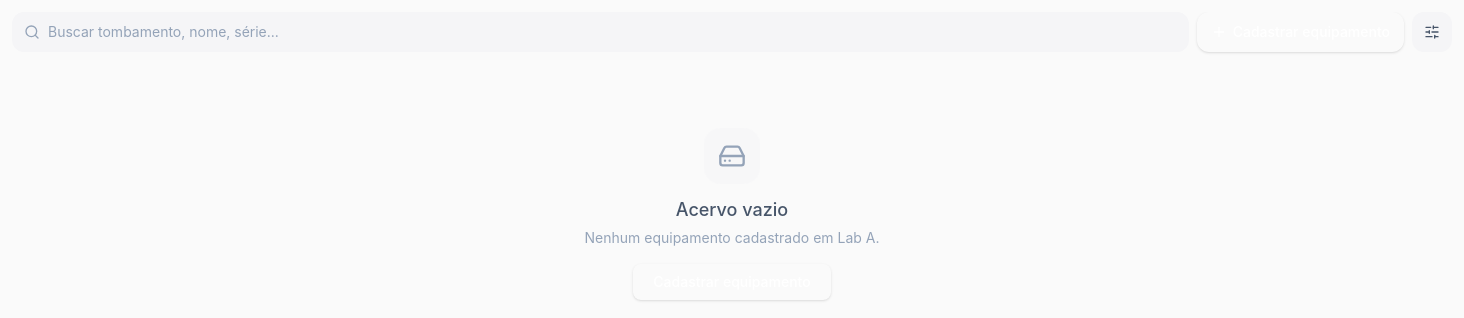
Test: StockEquipamentosListPage › busca filtra a lista
Type "notebook" into the field with placeholder "Buscar tombamento, nome, série..." at (600, 32), box left=12, top=12, right=1189, bottom=52
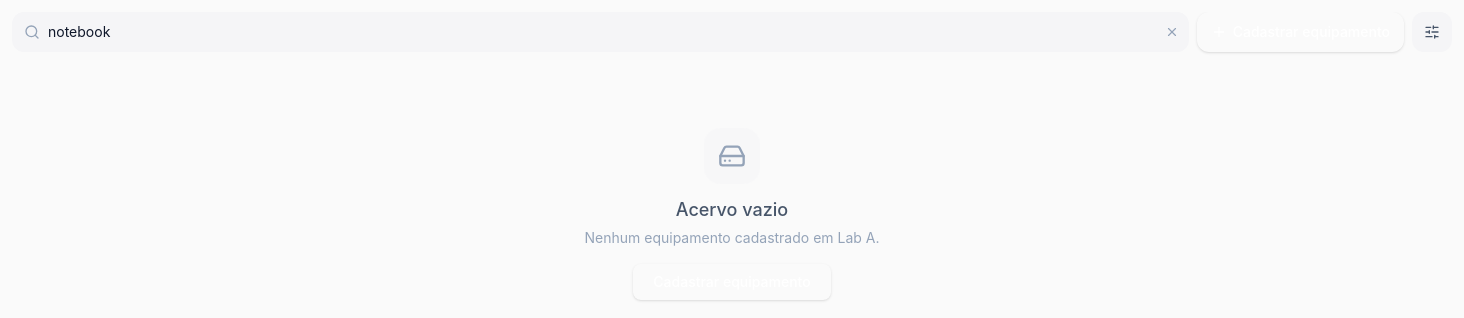
Clear search
Click the button named "Limpar busca" at (1172, 32), box left=1165, top=25, right=1179, bottom=39
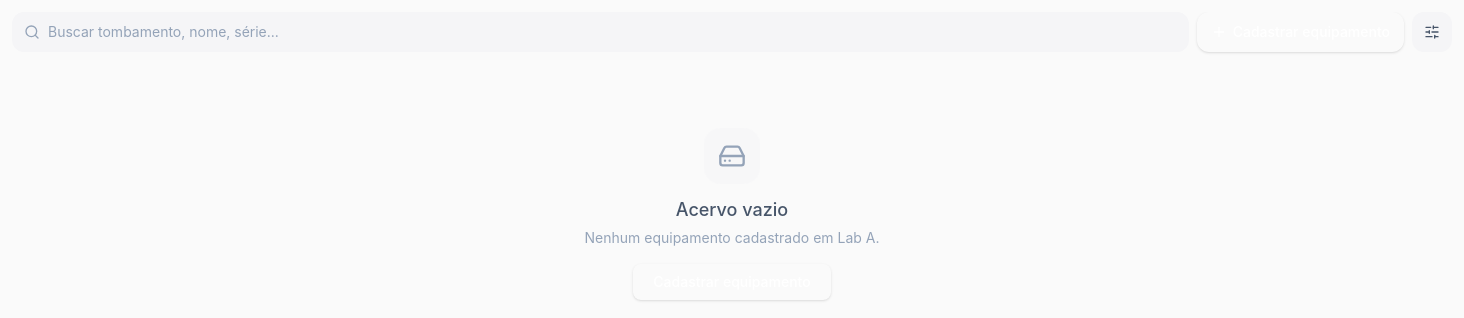
Expected: the field with placeholder "Buscar tombamento, nome, série..." is empty, left=12, top=12, right=1189, bottom=52
